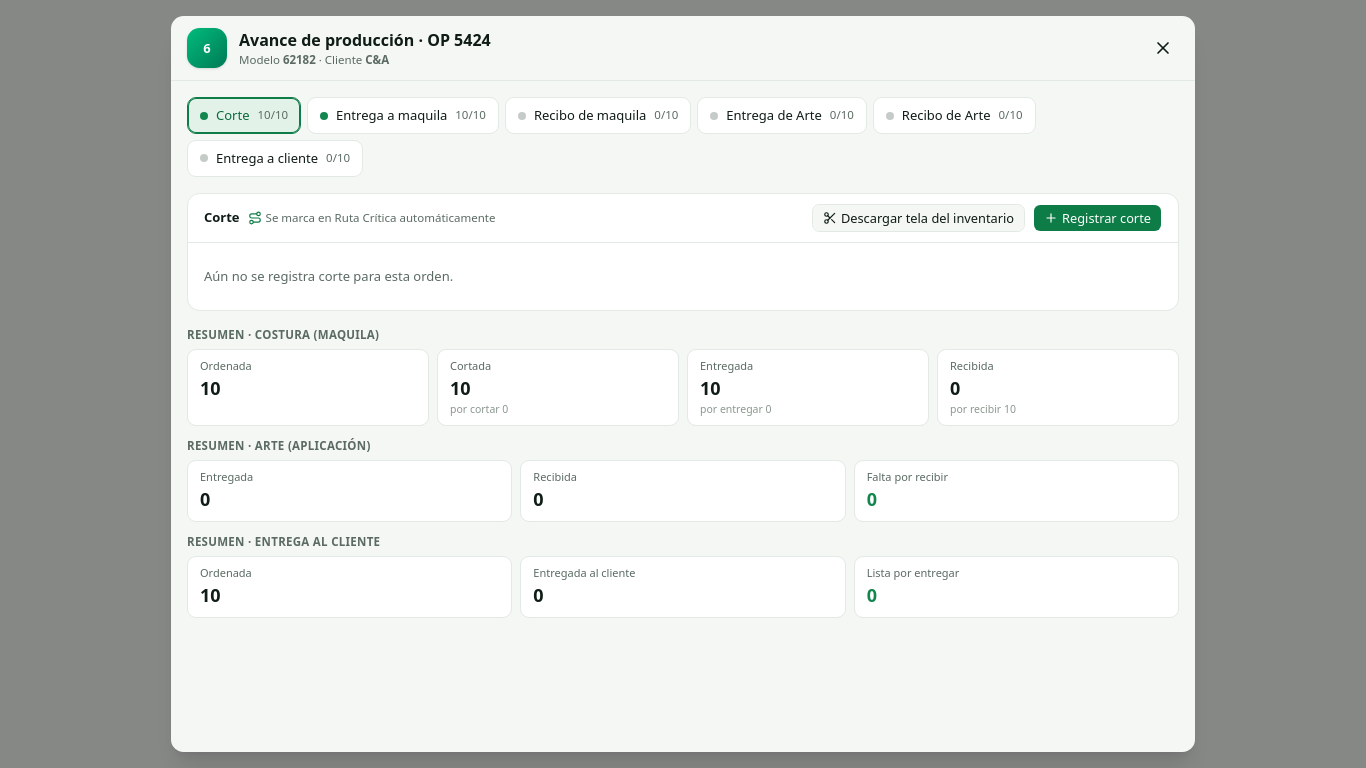
Test: Captura del avance · recibo de maquila › la matriz se topa contra el pendiente del maquilero ELEGIDO, no del proceso
Step 1. Click the tab with test id "avance-stepper-recibo-maquila" → [598, 116], box [505, 97, 691, 134]
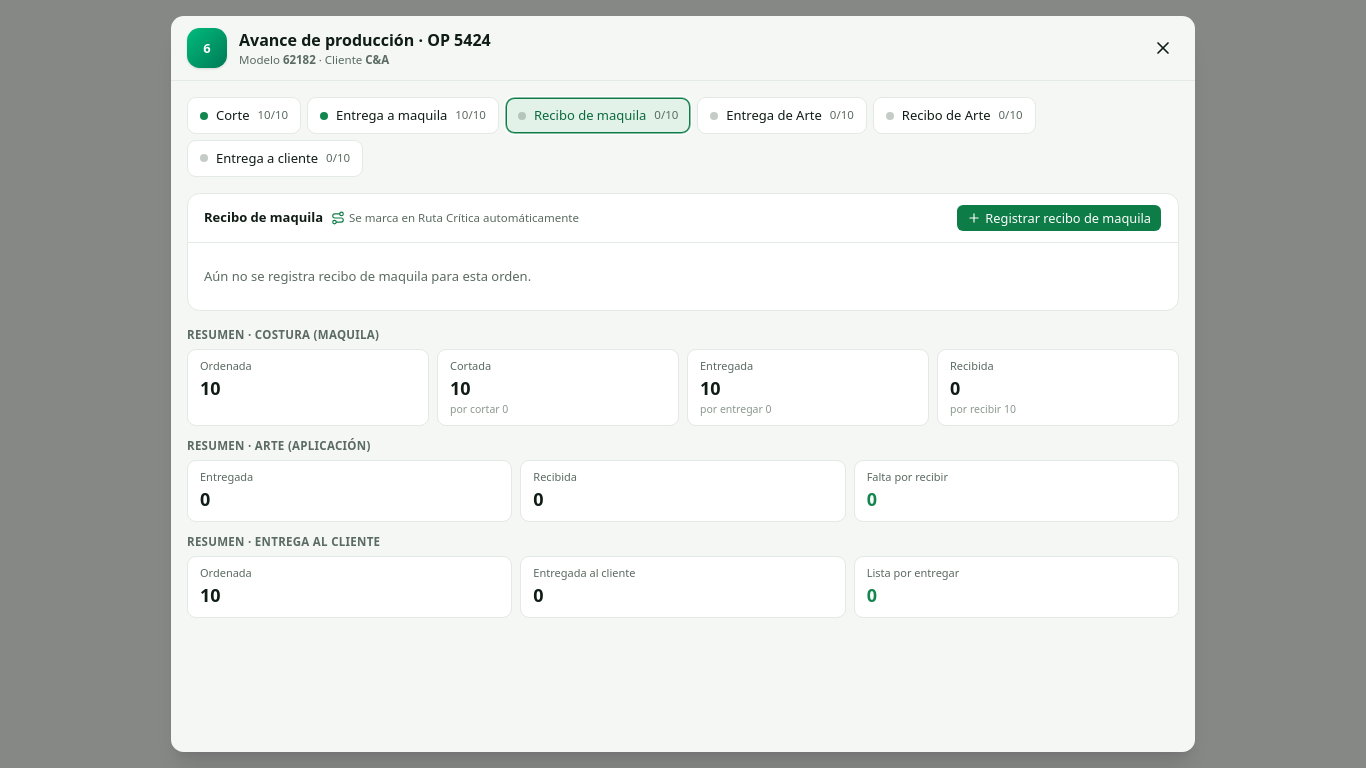
Step 2. Click the button with test id "avance-abrir-captura" → [1059, 218], box [956, 204, 1162, 232]
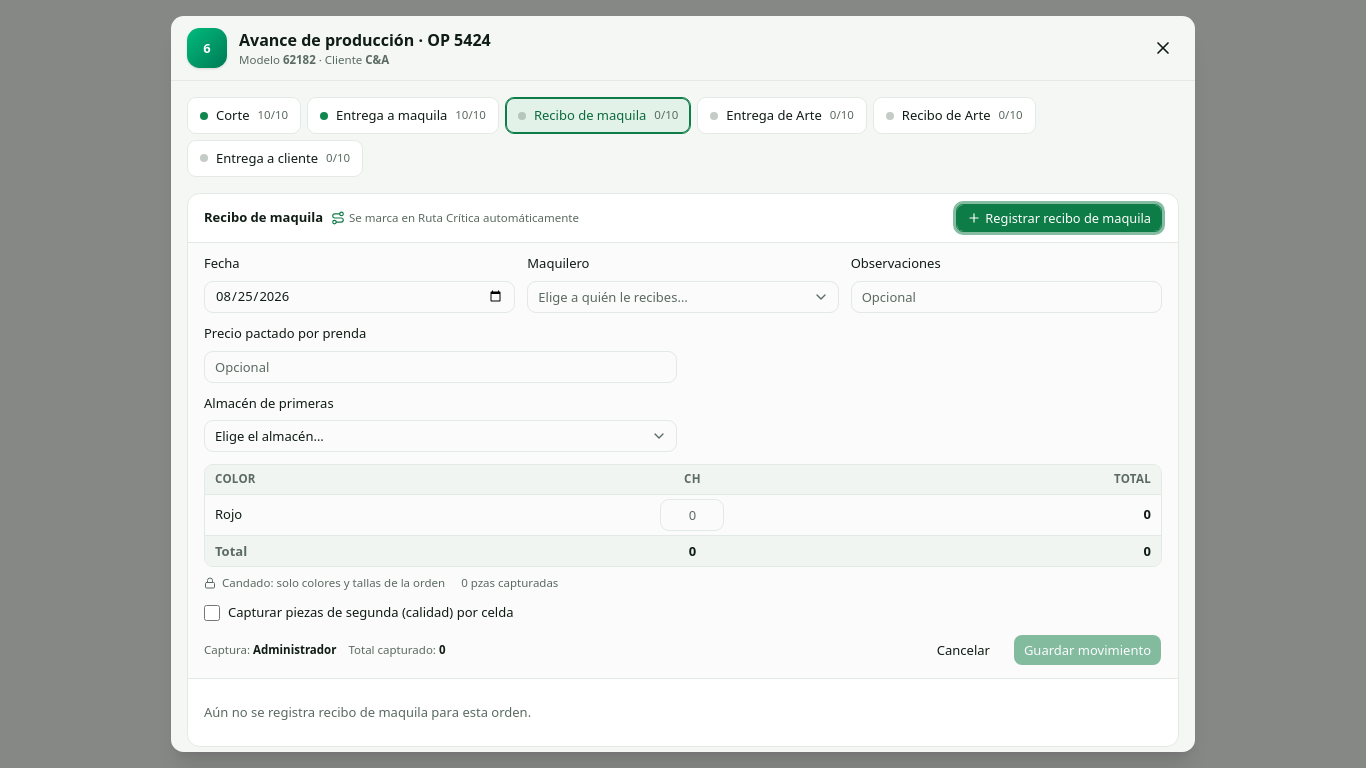
Step 3. Click the dropdown with test id "avance-proveedor-input" → [683, 297], box [527, 281, 839, 313]
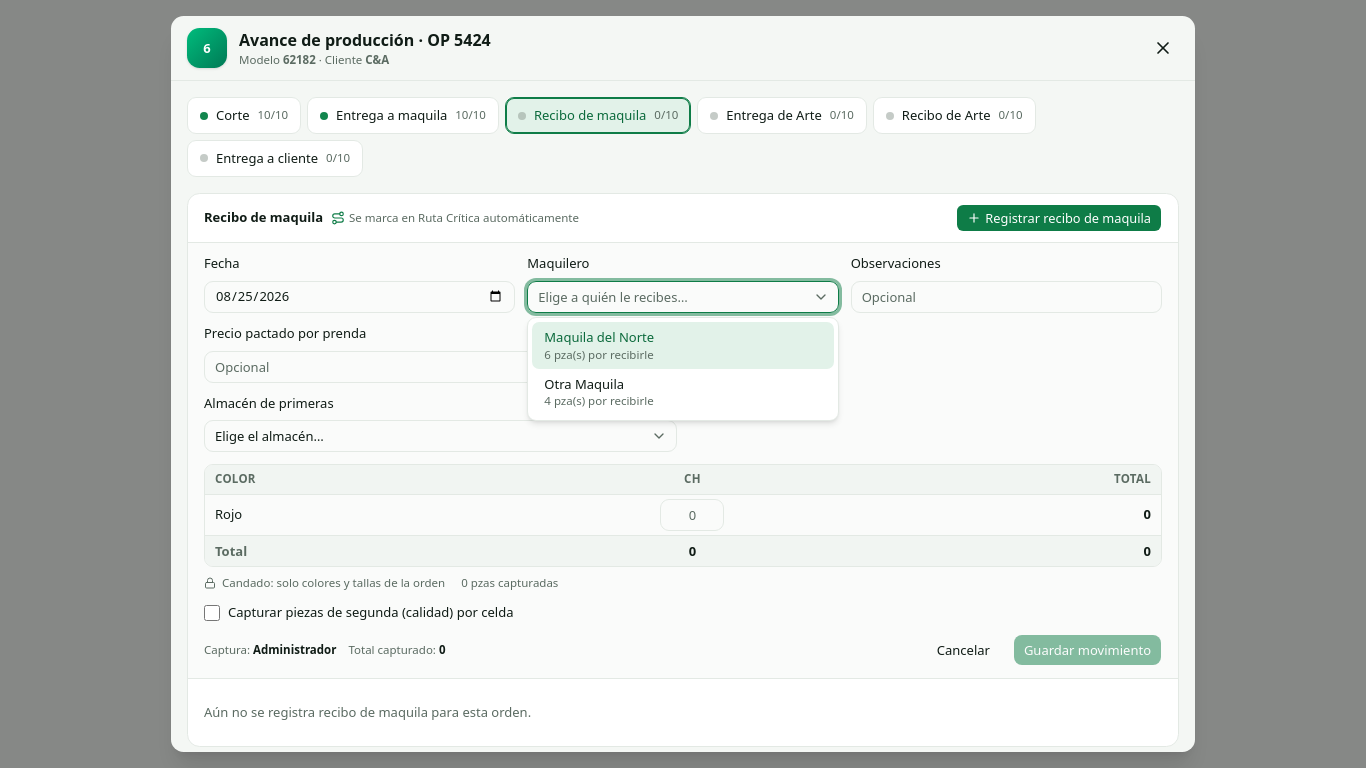
Step 4. Click the text "Otra Maquila" → [584, 384], box [544, 375, 624, 393]
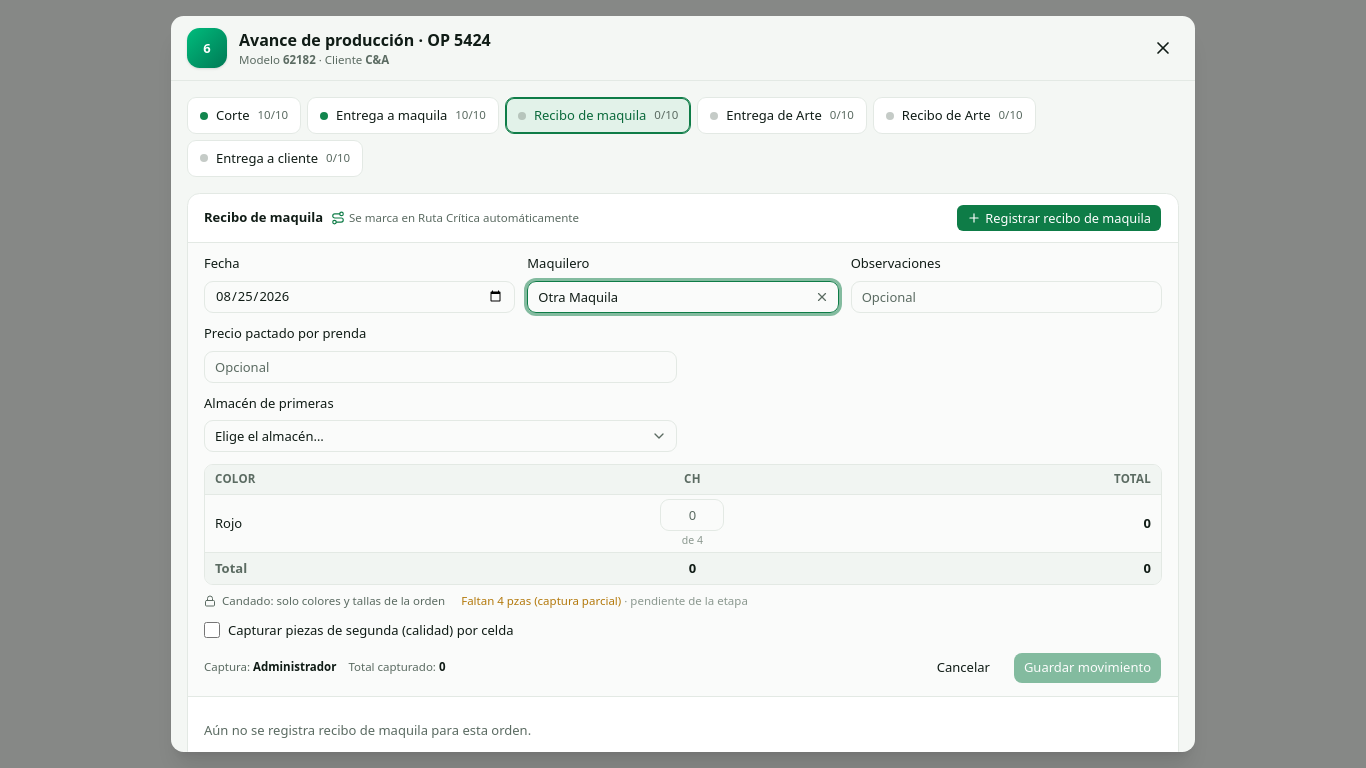
Now the text with test id "avance-matriz-hint" reads "de 4", box [682, 532, 703, 546]
Step 5. Replace the text in the dropdown with test id "avance-proveedor-input" with "norte" → [683, 297], box [527, 281, 839, 313]
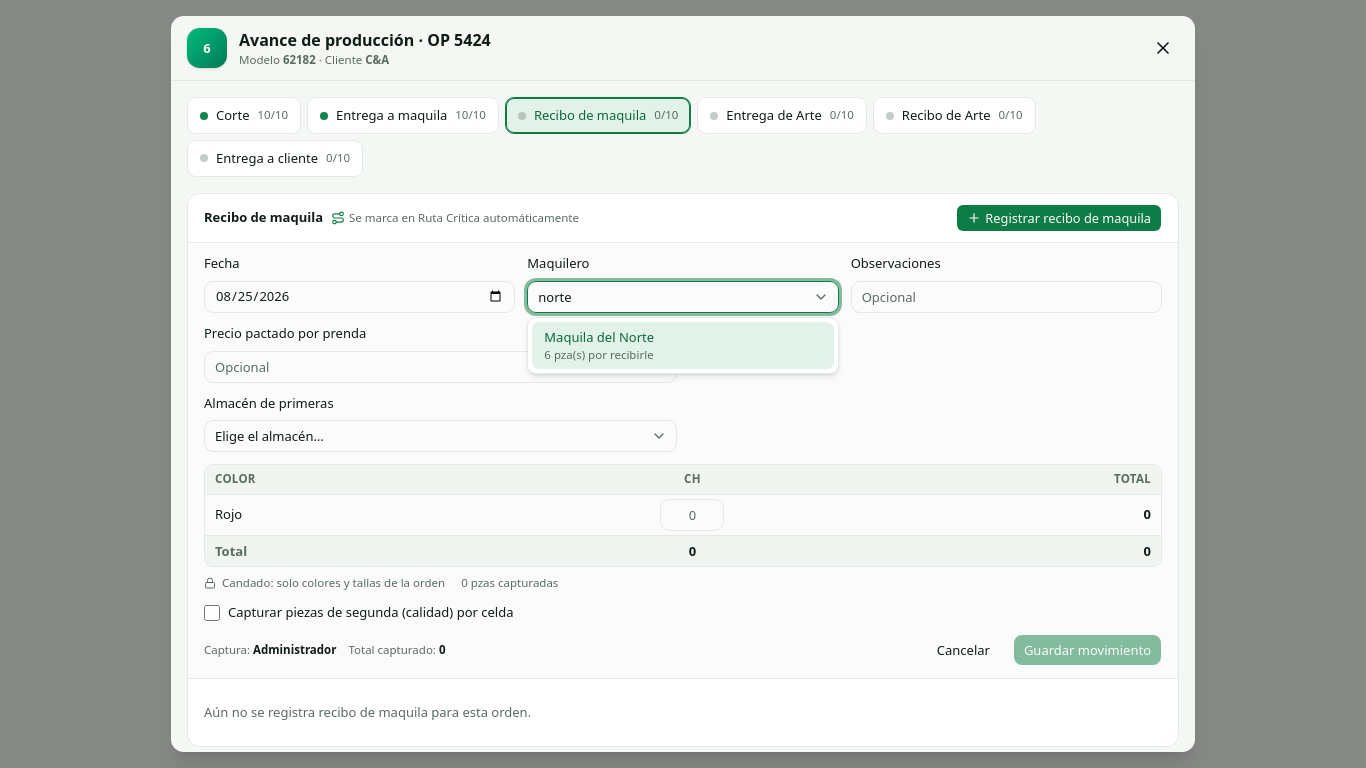
Step 6. Click the text "Maquila del Norte" → [599, 337], box [544, 328, 654, 346]
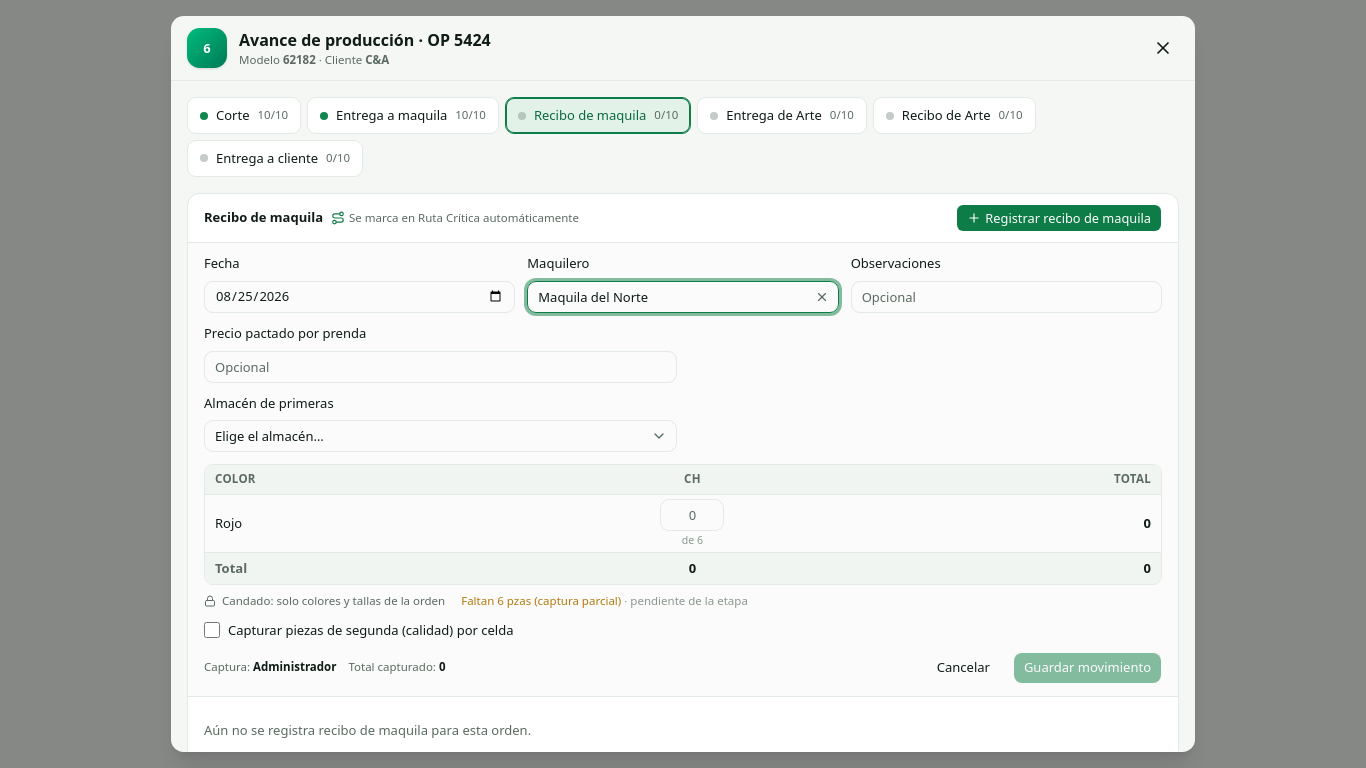
Now the text with test id "avance-matriz-hint" reads "de 6", box [682, 532, 703, 546]
